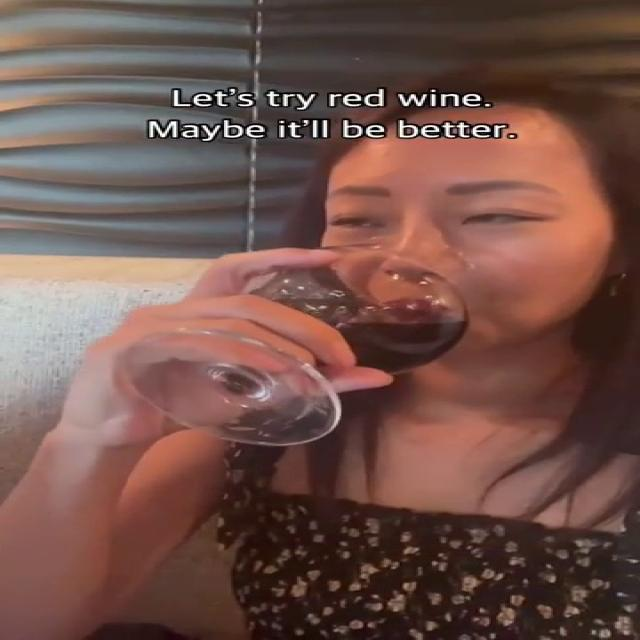Cup: (129, 242, 486, 445)
Hand: (66, 244, 402, 464)
Mouth: (381, 292, 455, 326)
